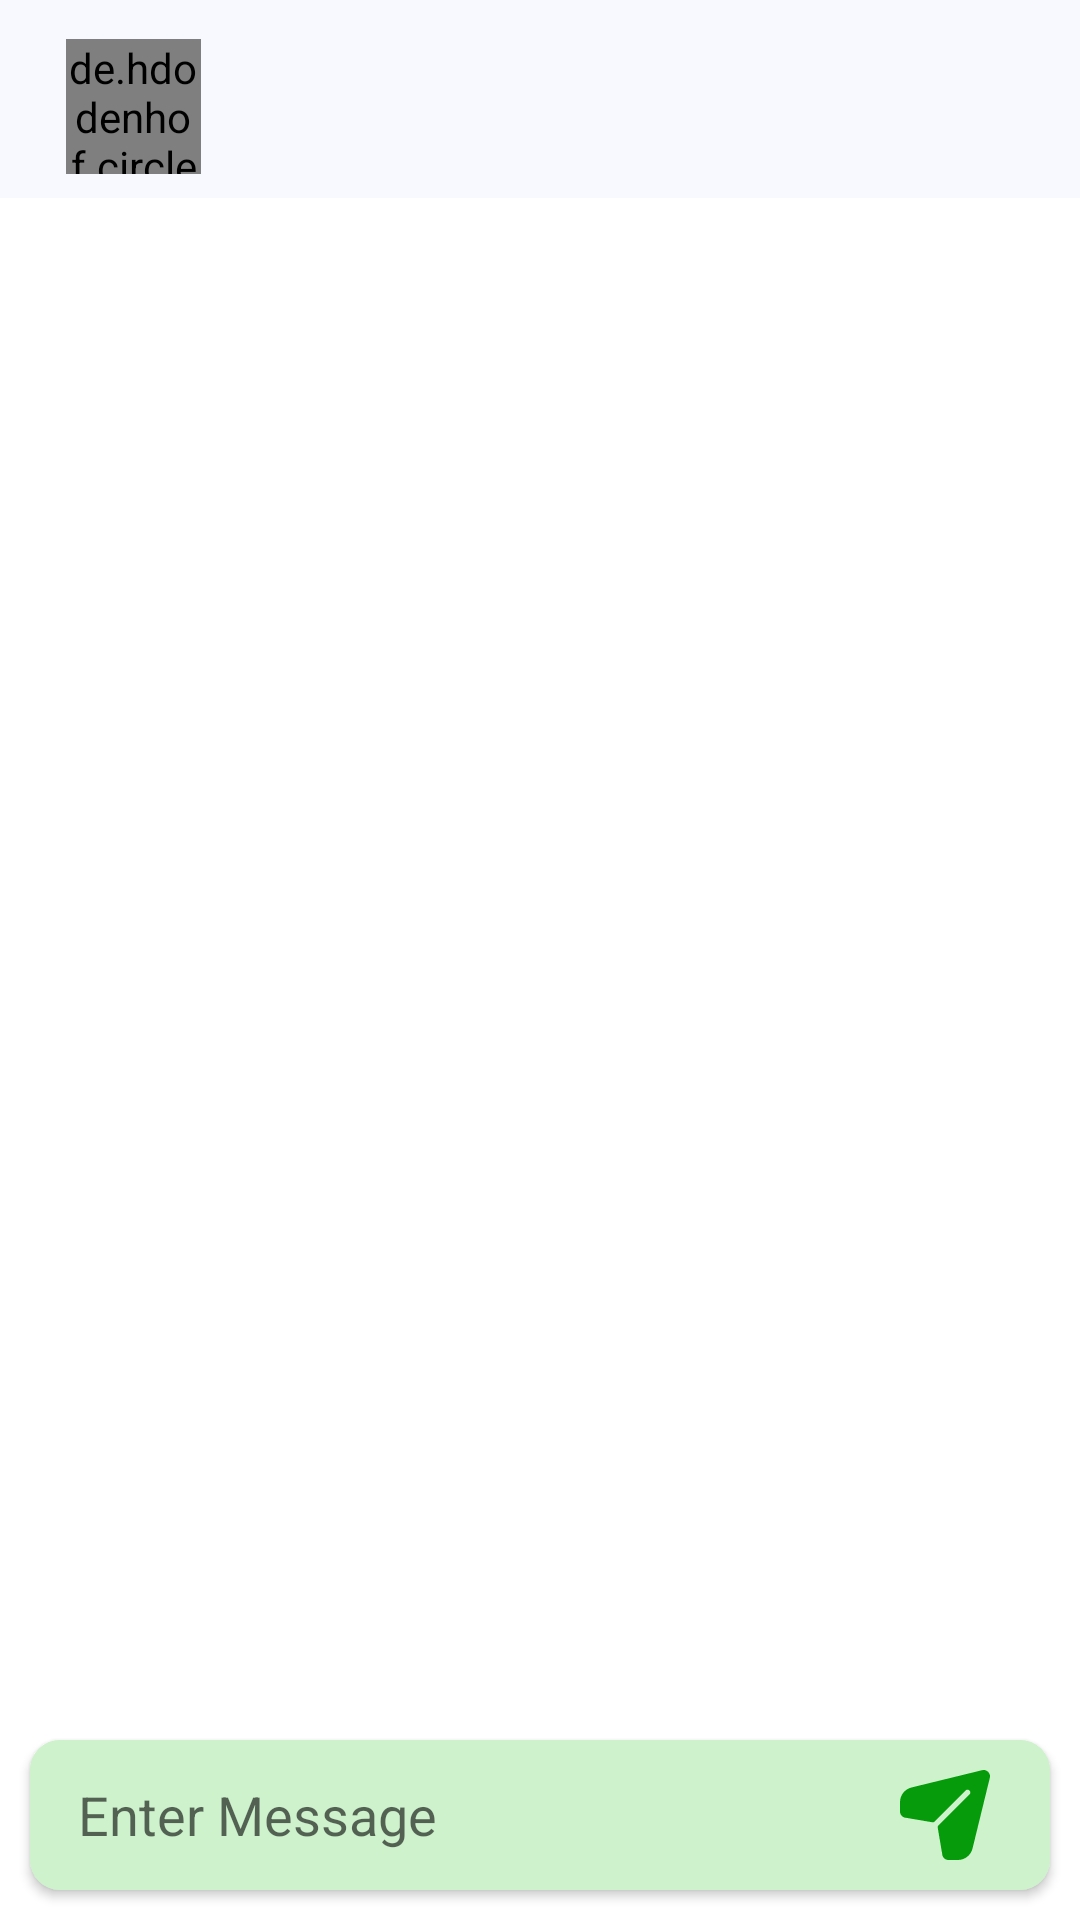

Where icons sit on this 1080*1920 app screen, as (x1, y1, x2, y2):
send: (900, 1770, 990, 1860)
